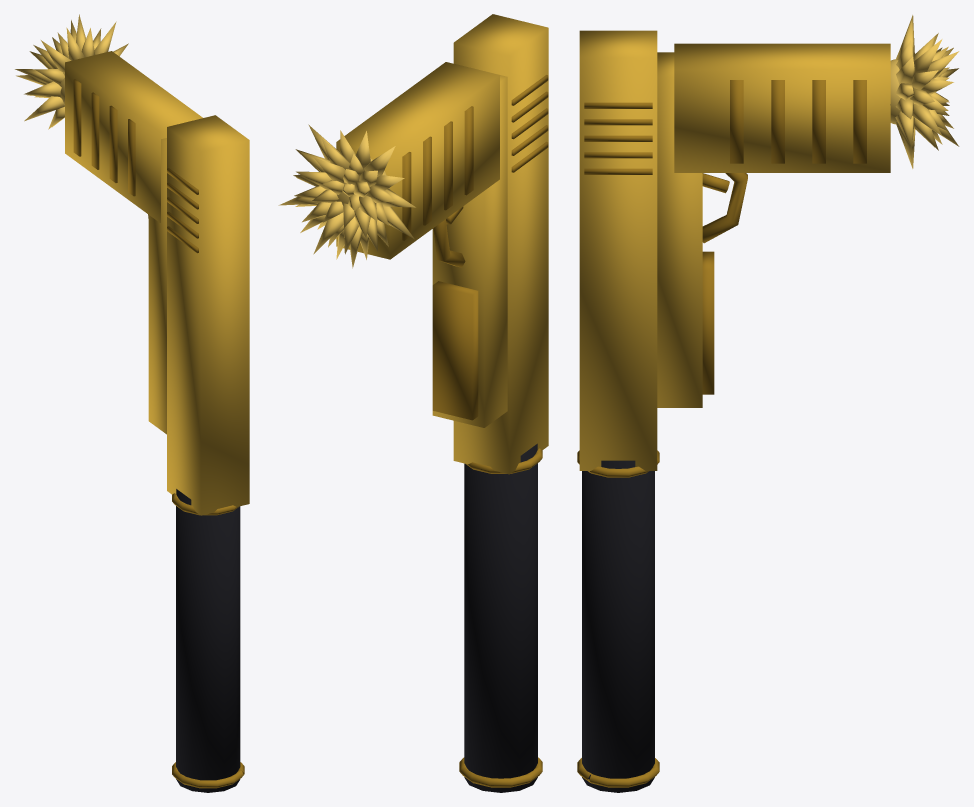
Rendered from carina_glock.glb.
The picture shows the model from 3 angles, left to right: view 1: azimuth 30°, elevation 25°; view 2: azimuth 150°, elevation 25°; view 3: azimuth 270°, elevation 25°; orthographic projection. The views are drawn at different scales.
Visible parts, largest first — view 1: P_glock; view 2: P_glock; view 3: P_glock.
Part boxes in pixels (x1,y1,x2,y2): P_glock: (15, 14, 249, 792); P_glock: (278, 14, 548, 792); P_glock: (577, 15, 959, 792).
Size of the model in its own units: 0.0614 by 0.3632 by 0.1678.
